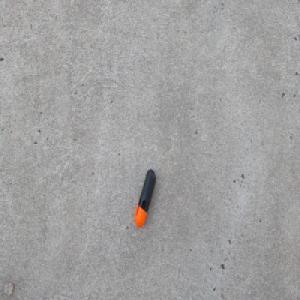PlasticPart: (134, 168, 156, 227)
